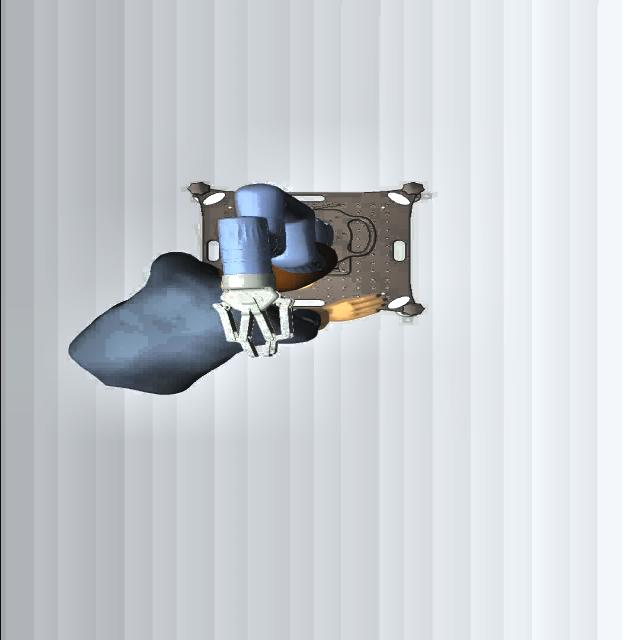human: (55, 239, 397, 401)
robot: (192, 178, 338, 364)
